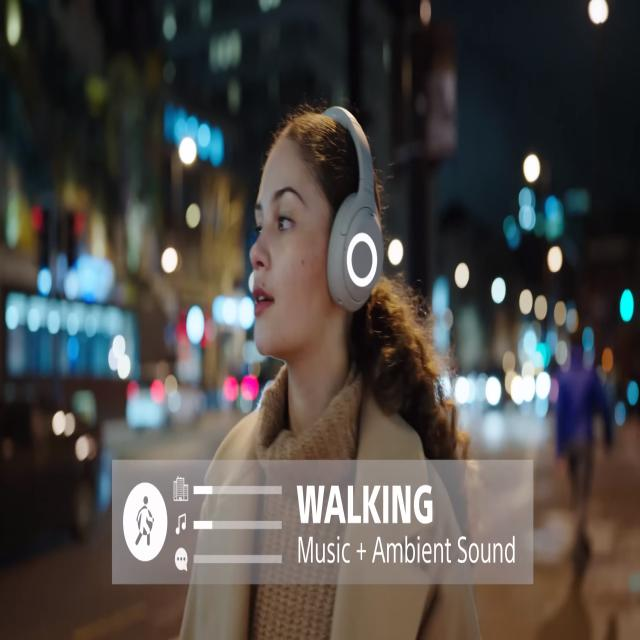Headphone: (322, 102, 383, 312)
